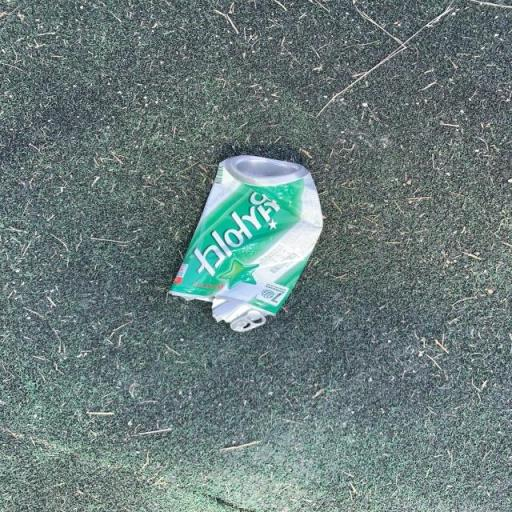metal: (148, 143, 346, 347)
